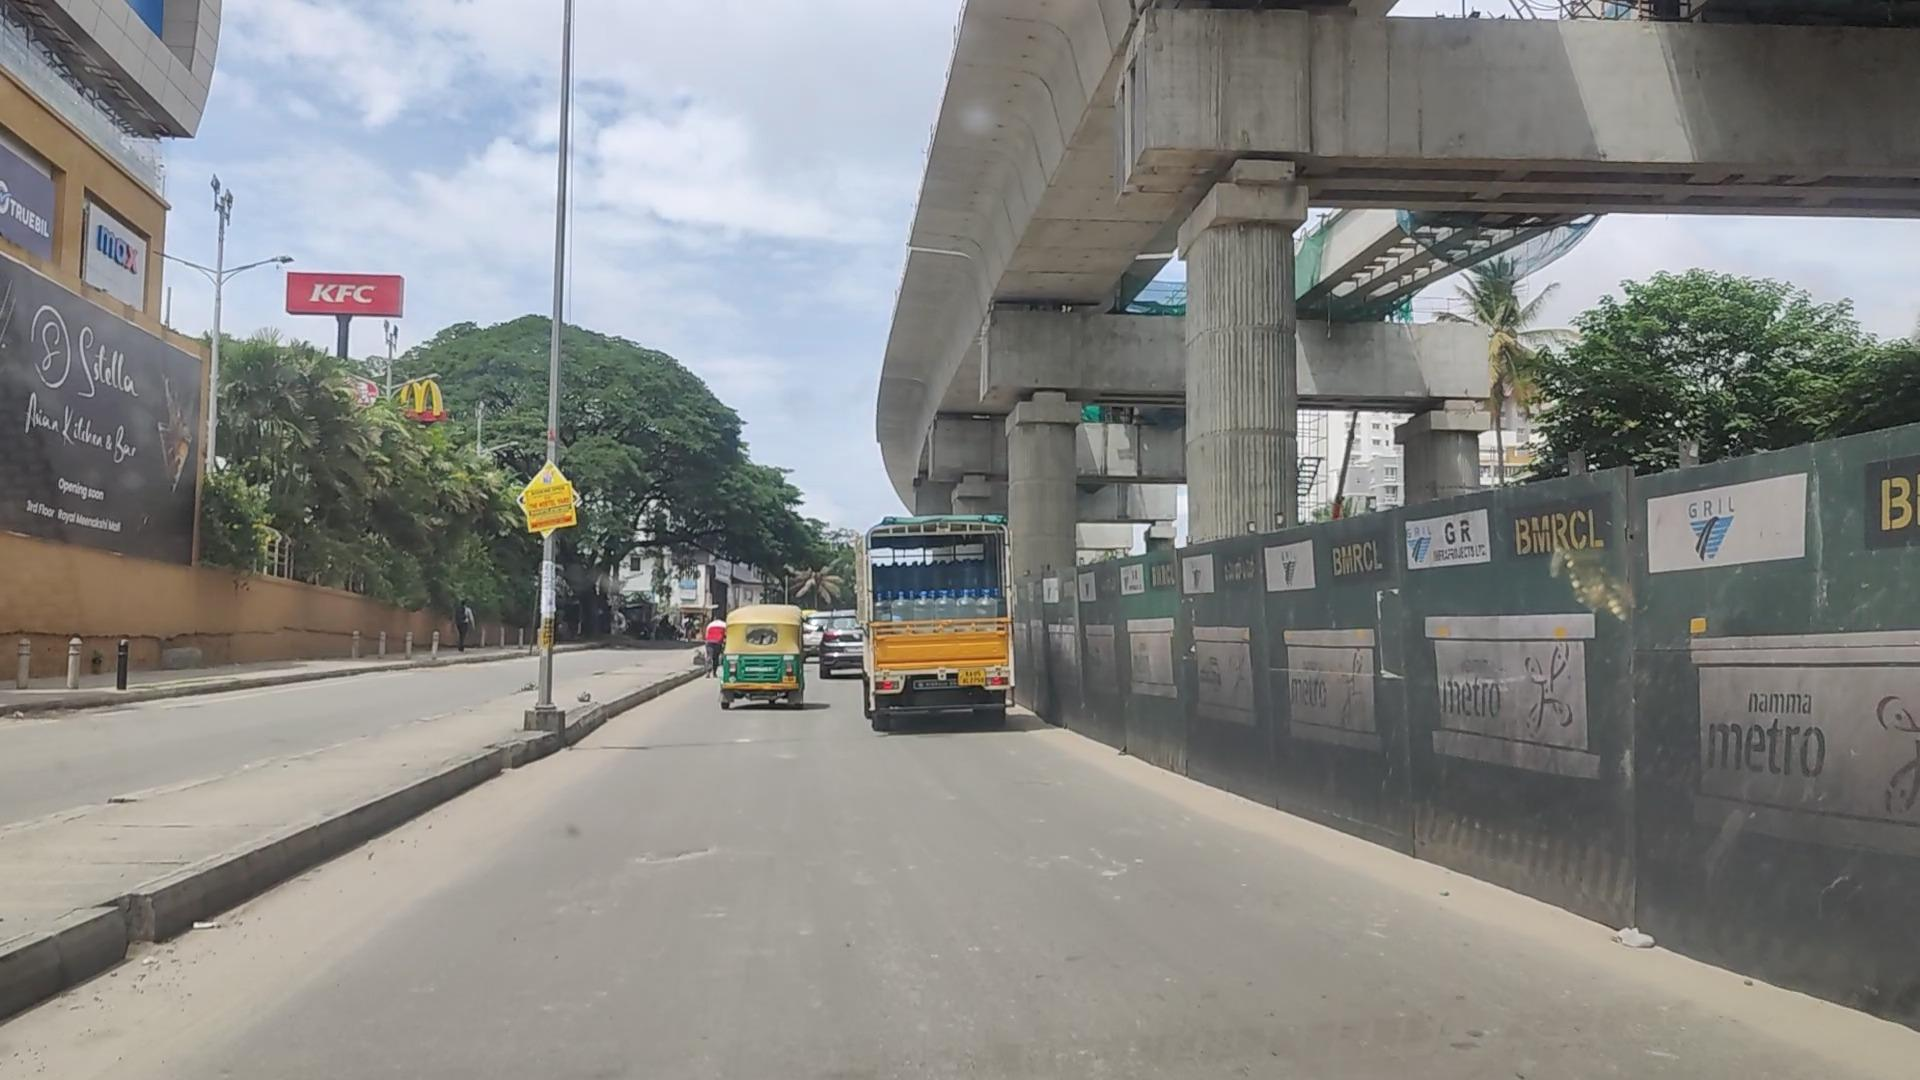HMV: (843, 512, 1029, 753)
LMV: (695, 603, 793, 713)
RoadDamages: (628, 840, 725, 882)
